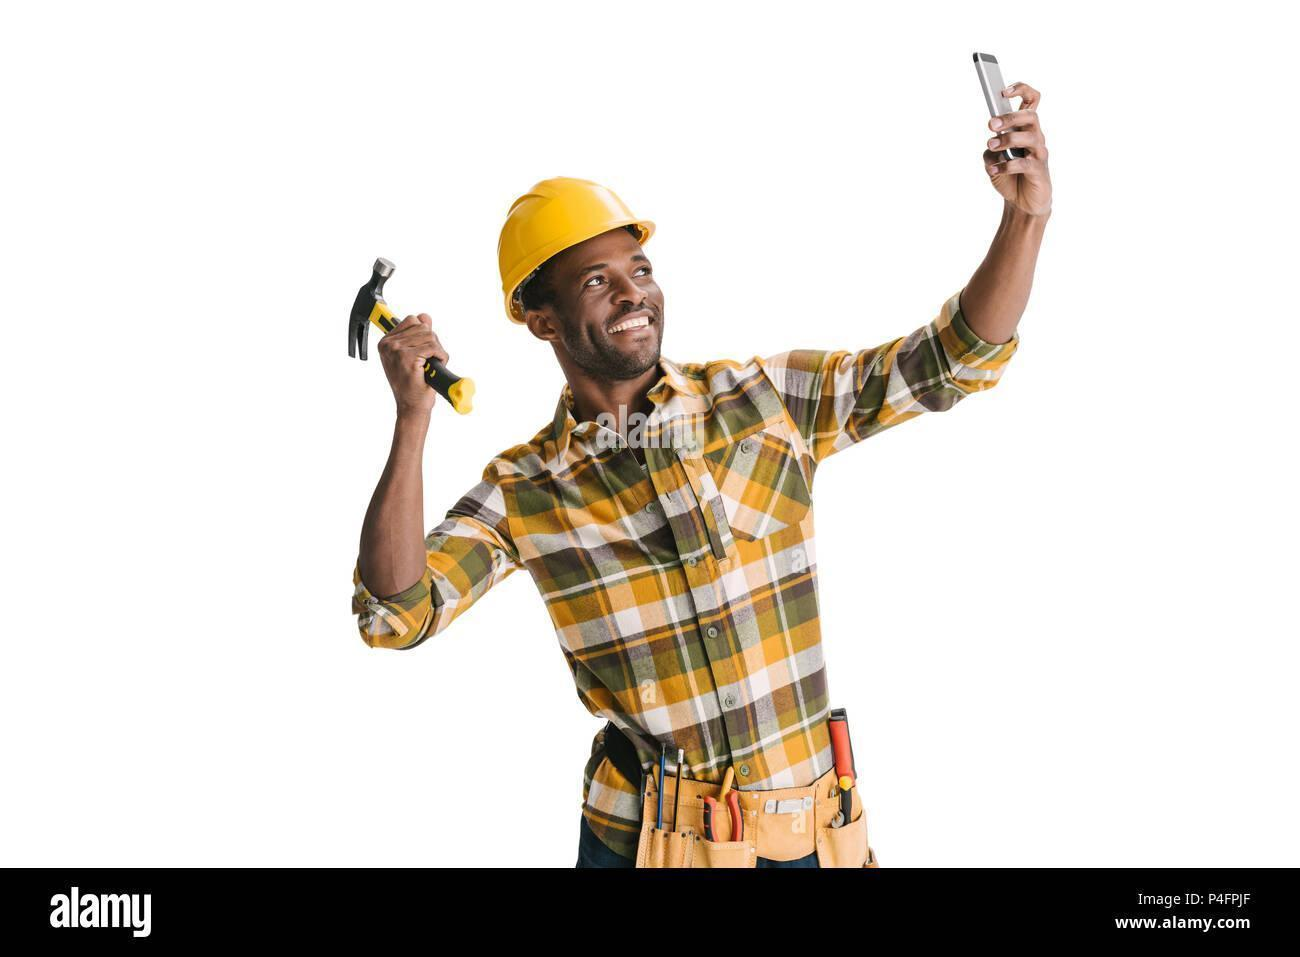helmet: (495, 176, 659, 311)
